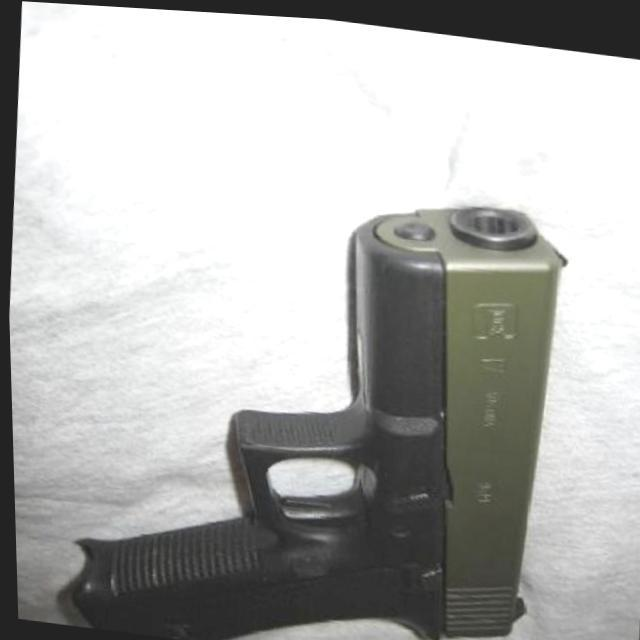gun: (50, 134, 573, 640)
